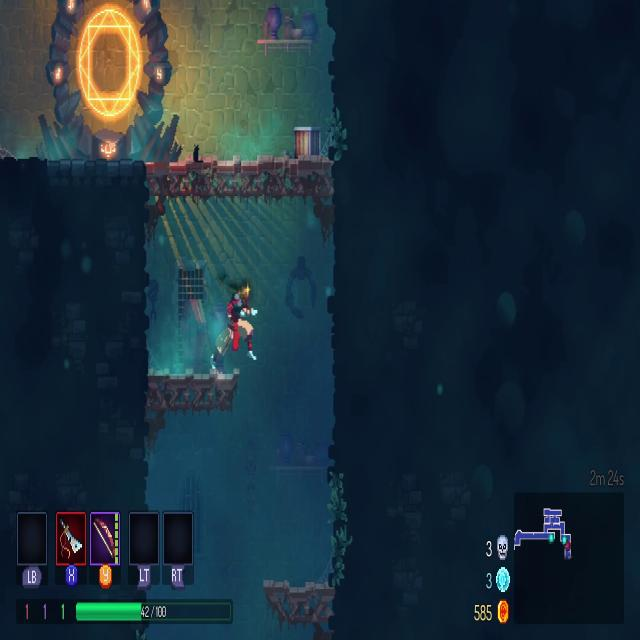agents: (211, 284, 256, 371)
wood_floor: (147, 154, 334, 213), (147, 366, 241, 413), (261, 574, 333, 631)
